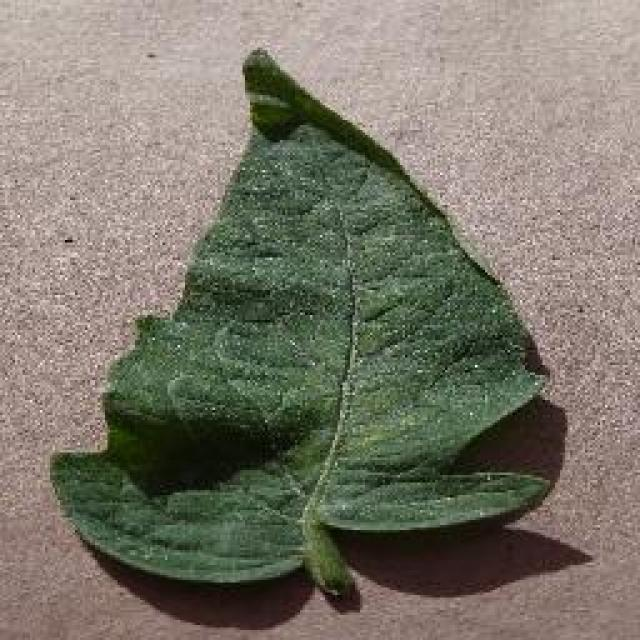Tomato mosaic virus leaf: (48, 45, 550, 587)
